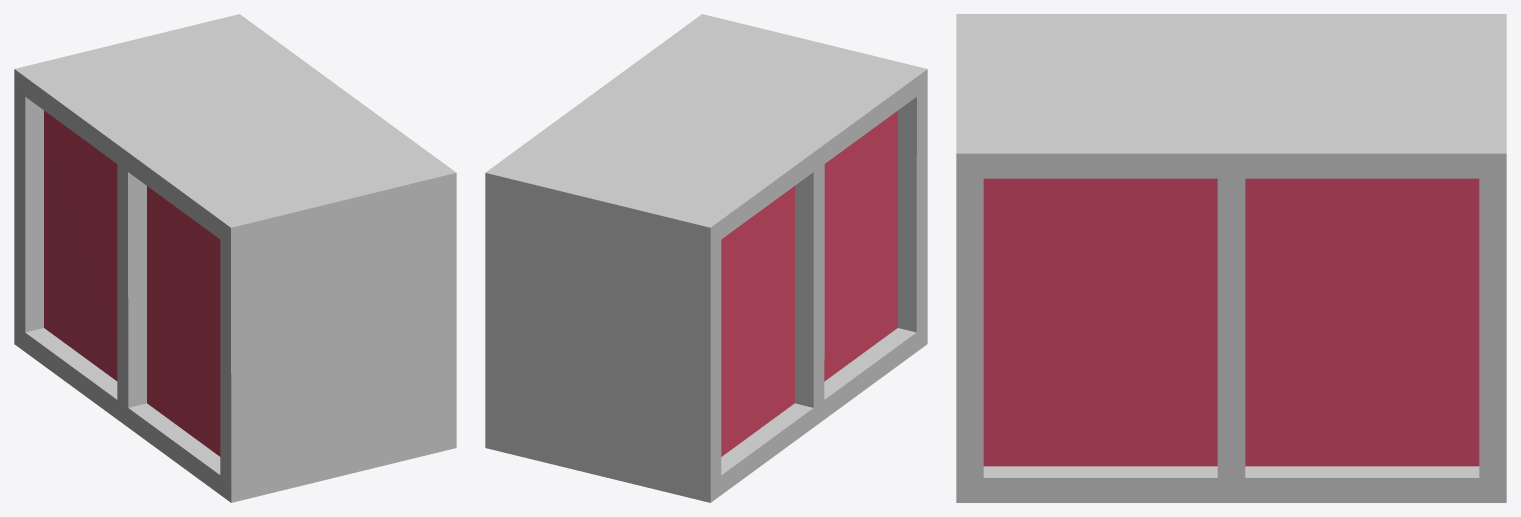
The model's file is WindowCorridor.fbx.
The picture shows the model from 3 angles, left to right: view 1: azimuth 30°, elevation 25°; view 2: azimuth 150°, elevation 25°; view 3: azimuth 270°, elevation 25°; orthographic projection. The views are drawn at different scales.
Visible parts, largest first — view 1: WindowCorridor_LOD0; view 2: WindowCorridor_LOD0; view 3: WindowCorridor_LOD0.
Part boxes in pixels (x1=…): WindowCorridor_LOD0: x1=14, y1=14, x2=456, y2=502; WindowCorridor_LOD0: x1=485, y1=14, x2=927, y2=502; WindowCorridor_LOD0: x1=956, y1=14, x2=1506, y2=502.
Size of what is drawn, in the model's own units: 60.05 by 70 by 100.
